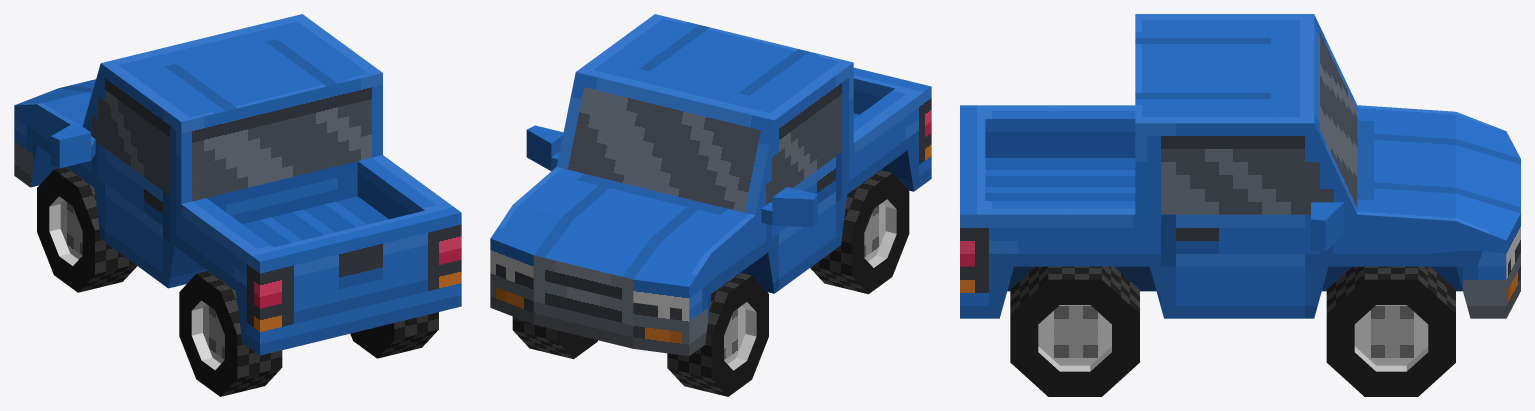
Rendered from Blue_truck.glb.
3 views of the same model, side by side, from view 1: azimuth 30°, elevation 25°; view 2: azimuth 150°, elevation 25°; view 3: azimuth 270°, elevation 25° (orthographic). The views are drawn at different scales.
Parts seen in each view (by area): view 1: body, cylinder.001, cylinder, cylinder.002, miror_left; view 2: body, cylinder.001, cylinder, miror_left, cylinder.003, miror_left.001; view 3: body, cylinder.002, cylinder.003, miror_left.001.
Part boxes in pixels (x1,y1,x2,y2): body: (14,14,461,355); cylinder.001: (179,271,282,396); cylinder: (37,167,136,292); cylinder.002: (350,312,438,358); miror_left: (51,122,95,168); body: (490,14,931,356); cylinder.001: (810,170,909,294); cylinder: (667,272,768,396); miror_left: (761,187,817,227); cylinder.003: (512,316,597,359); miror_left.001: (526,125,563,171); body: (960,14,1520,318); cylinder.002: (1010,266,1139,396); cylinder.003: (1326,266,1455,396); miror_left.001: (1311,202,1343,251).
Bounding box in the file's own units: 1.62 × 1.31 × 2.44.
1 material, 1 textured.
